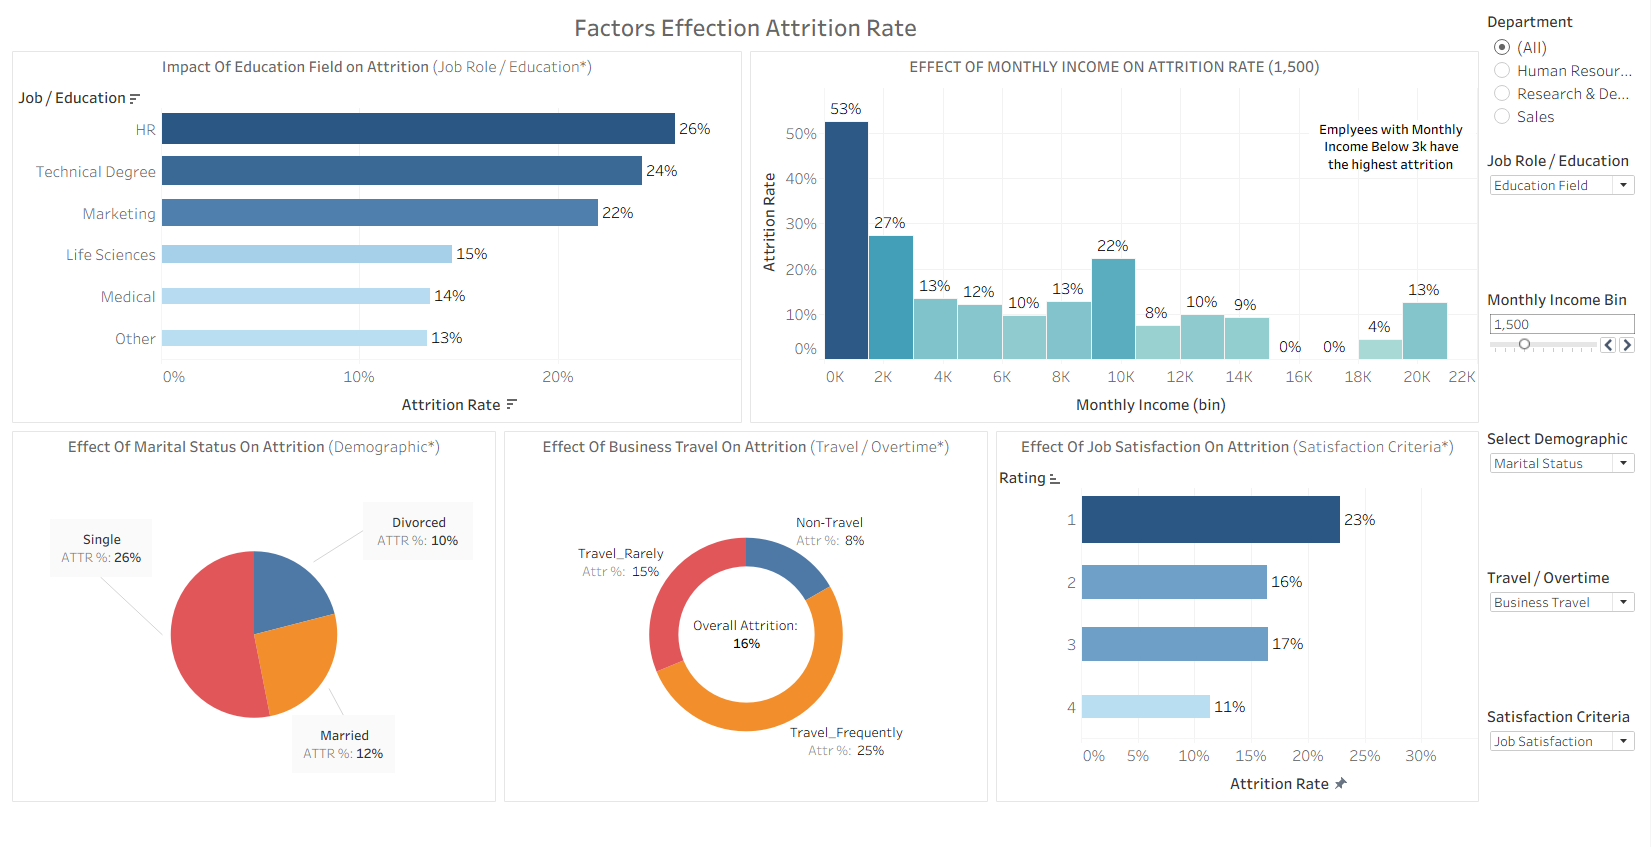

This screenshot's page, from the dashboard's own definition file:
{"tool":"tableau","page":{"name":"Q4 - Dashboard","canvas":[1650,850],"ordinal":0},"visuals":[{"type":"text","box":[8,8,1474.6,40]},{"type":"filter","title":"Demographics Vs Attrition","param":"[federated.1jawe3f1wmuq281fufyfb1pqnrt6].[none:Department:nk]","box":[1483,8,159,139]},{"type":"worksheet","title":"Q2 - Job Role Impact ","mark":"Bar","rows":["Calculation_1338132043763326981"],"cols":["Calculation_473440914216067076"],"box":[8,48,738,380]},{"type":"worksheet","title":"Q3 - Monthly Income VS Attrition","mark":"Automatic","rows":["Calculation_473440914216067076"],"cols":["Monthly Income (bin)"],"box":[746,48,737,380]},{"type":"parameter","param":"[Parameters].[Parameter 6]","box":[1483,147,159,139]},{"type":"parameter","param":"[Parameters].[Parameter 2]","box":[1483,286,159,139]},{"type":"parameter","param":"[Parameters].[Parameter 3]","box":[1483,425,159,139]},{"type":"worksheet","title":"Demographics Vs Attrition","mark":"Pie","box":[8,428,492,379]},{"type":"worksheet","title":"Travel / Over Vs Attrition","mark":"Pie","cols":["Calculation_1338132043744870401","Calculation_1338132043744870401"],"box":[500,428,492,379]},{"type":"worksheet","title":"Satisfaction Criteria Vs Attrition","mark":"Automatic","rows":["Calculation_1338132043757334531"],"cols":["Calculation_473440914216067076"],"box":[992,428,491,379]},{"type":"parameter","param":"[Parameters].[Parameter 11]","box":[1483,564,159,139]},{"type":"parameter","param":"[Parameters].[Parameter 5]","box":[1483,703,159,139]}]}

Visuals, with their boxes in screenshot pixels (x1, y1, x2, y2), scaled from the page's 1650x850 canvas onto the 1651x847 screenshot:
text: bbox=(8, 8, 1483, 48)
"Demographics Vs Attrition" filter: bbox=(1484, 8, 1643, 146)
"Q2 - Job Role Impact " worksheet (Bar marks): bbox=(8, 48, 746, 426)
"Q3 - Monthly Income VS Attrition" worksheet: bbox=(746, 48, 1484, 426)
parameter: bbox=(1484, 146, 1643, 285)
parameter: bbox=(1484, 285, 1643, 424)
parameter: bbox=(1484, 424, 1643, 562)
"Demographics Vs Attrition" worksheet (Pie marks): bbox=(8, 426, 500, 804)
"Travel / Over Vs Attrition" worksheet (Pie marks): bbox=(500, 426, 993, 804)
"Satisfaction Criteria Vs Attrition" worksheet: bbox=(993, 426, 1484, 804)
parameter: bbox=(1484, 562, 1643, 701)
parameter: bbox=(1484, 701, 1643, 839)
